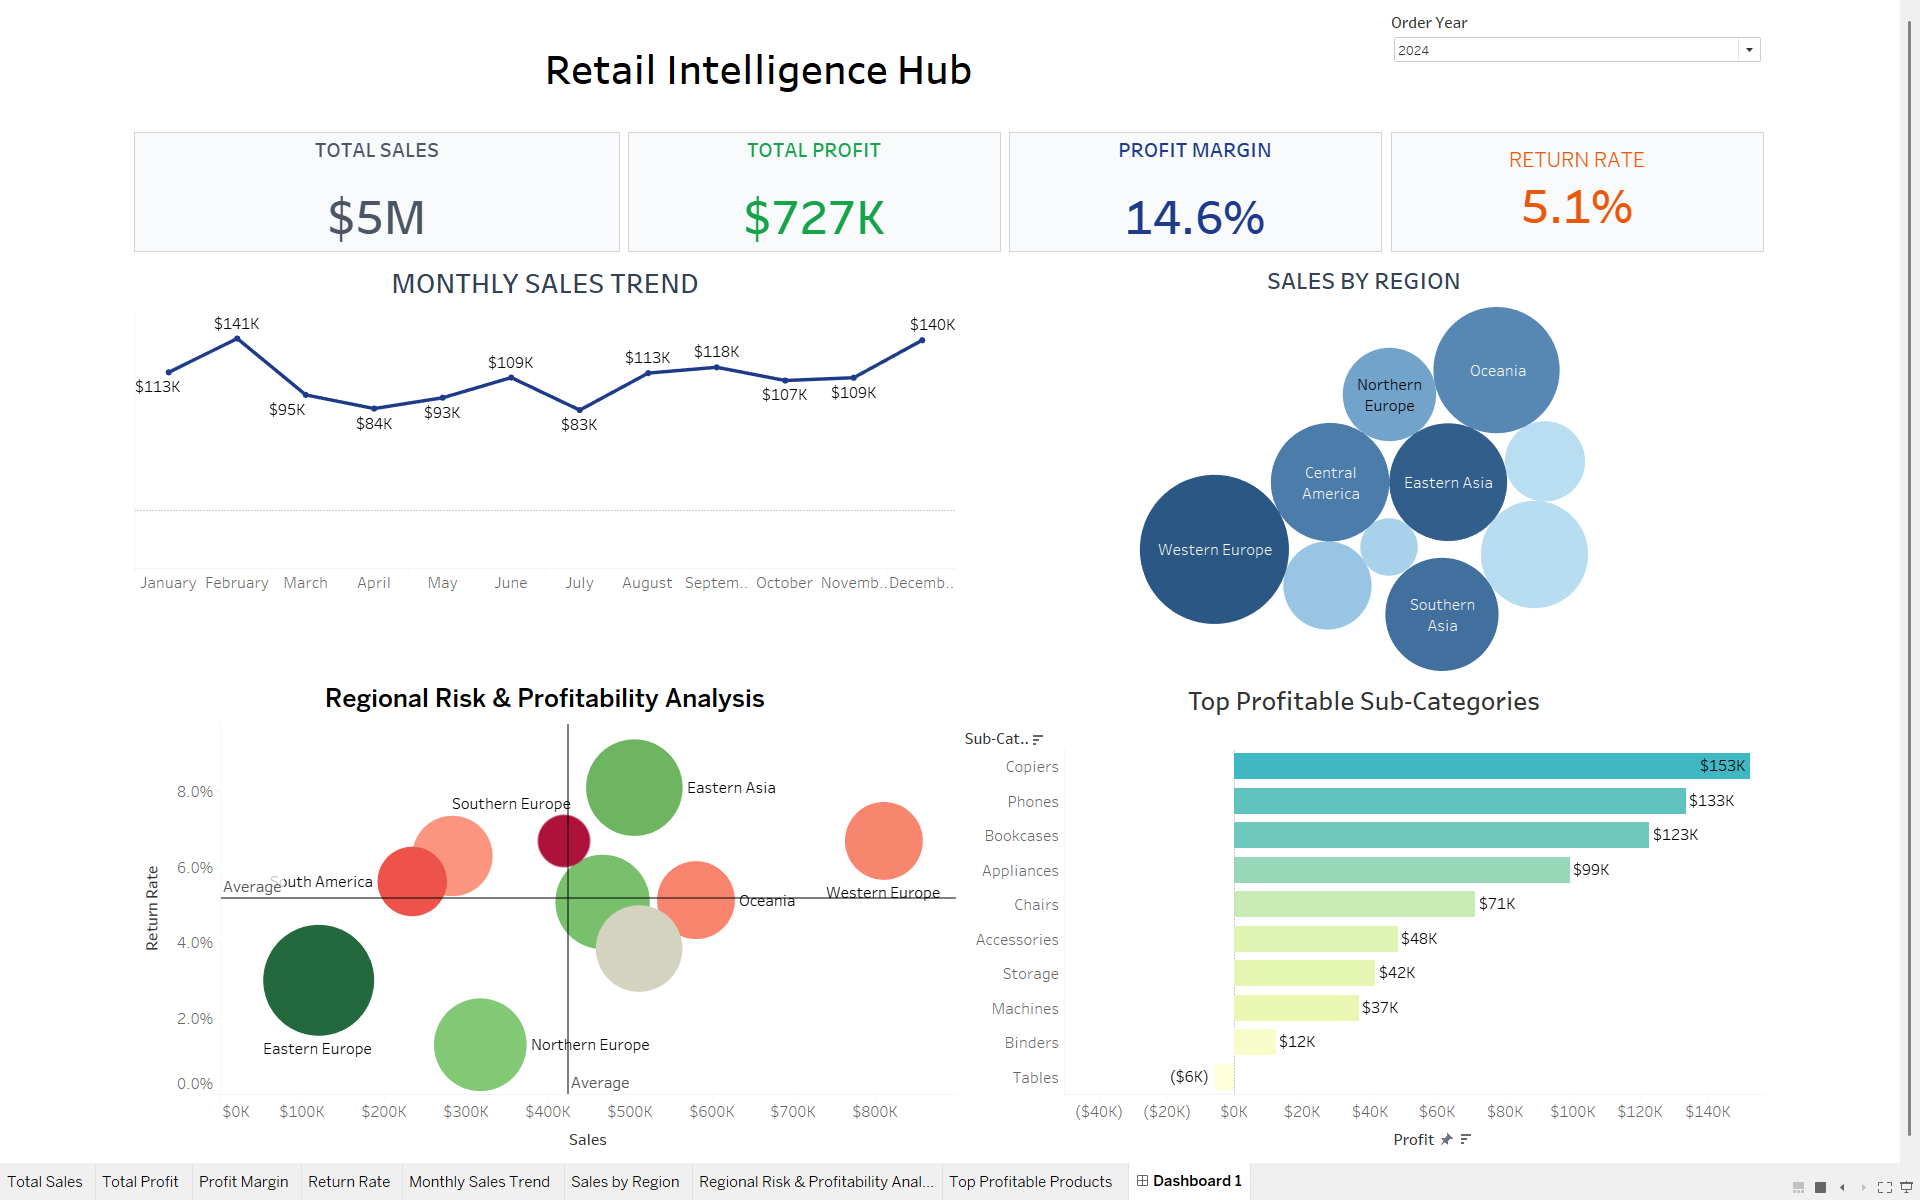

The dashboard page shown, as its layout file describes it:
{"tool":"tableau","page":{"name":"Dashboard 1","canvas":[1654,1169],"ordinal":0},"visuals":[{"type":"text","box":[8,8,1257,120]},{"type":"filter","title":"Monthly Sales Trend","param":"[federated.112786t0rvzu7d12ez3o80dhi847].[none:order_year:ok]","box":[1265,8,381,120]},{"type":"worksheet","title":"Total Sales","mark":"Text","box":[8,128,493.8,127.9]},{"type":"worksheet","title":"Total Profit","mark":"Text","box":[501.8,128,381.4,127.9]},{"type":"worksheet","title":"Profit Margin","mark":"Text","box":[883.2,128,381.4,127.9]},{"type":"worksheet","title":"Return Rate","mark":"Text","box":[1264.6,128,381.4,127.9]},{"type":"worksheet","title":"Monthly Sales Trend","mark":"Line","rows":["Sales"],"cols":["order_month_name"],"box":[8,255.9,830,419.1]},{"type":"worksheet","title":"Sales by Region","mark":"Circle","box":[838,255.9,808,419.1]},{"type":"worksheet","title":"Regional Risk & Profitability Analysis","mark":"Circle","rows":["Calculation_224898513028472833"],"cols":["Sales"],"box":[8,675,830,486]},{"type":"worksheet","title":"Top Profitable Products","mark":"Automatic","rows":["Sub-Category"],"cols":["Profit"],"box":[838,675,808,486]}]}

Visuals, with their boxes on the page's 1654x1169 design canvas (x1, y1, x2, y2). These are canvas units, not pixel positions in the 1920x1200 screenshot, which may show the page scaled, cropped or inside an application window:
text: [8, 8, 1265, 128]
"Monthly Sales Trend" filter: [1265, 8, 1646, 128]
"Total Sales" worksheet (Text marks): [8, 128, 502, 256]
"Total Profit" worksheet (Text marks): [502, 128, 883, 256]
"Profit Margin" worksheet (Text marks): [883, 128, 1265, 256]
"Return Rate" worksheet (Text marks): [1265, 128, 1646, 256]
"Monthly Sales Trend" worksheet (Line marks): [8, 256, 838, 675]
"Sales by Region" worksheet (Circle marks): [838, 256, 1646, 675]
"Regional Risk & Profitability Analysis" worksheet (Circle marks): [8, 675, 838, 1161]
"Top Profitable Products" worksheet: [838, 675, 1646, 1161]
